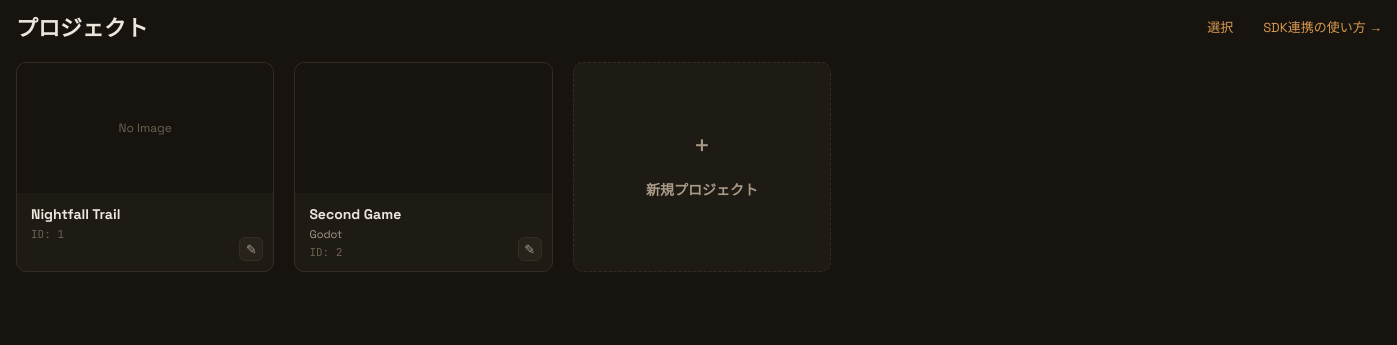
ProjectsPage › project edit › cancel closes the edit form without saving
Click the button named "プロジェクトを編集": (251, 249) [239,237,263,261]
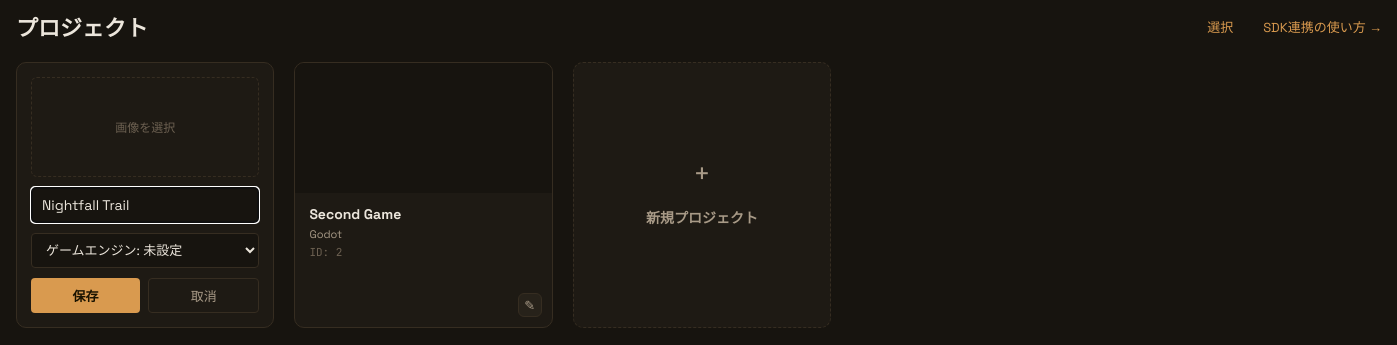
Click the button "取消": (204, 296) [148,278,259,313]
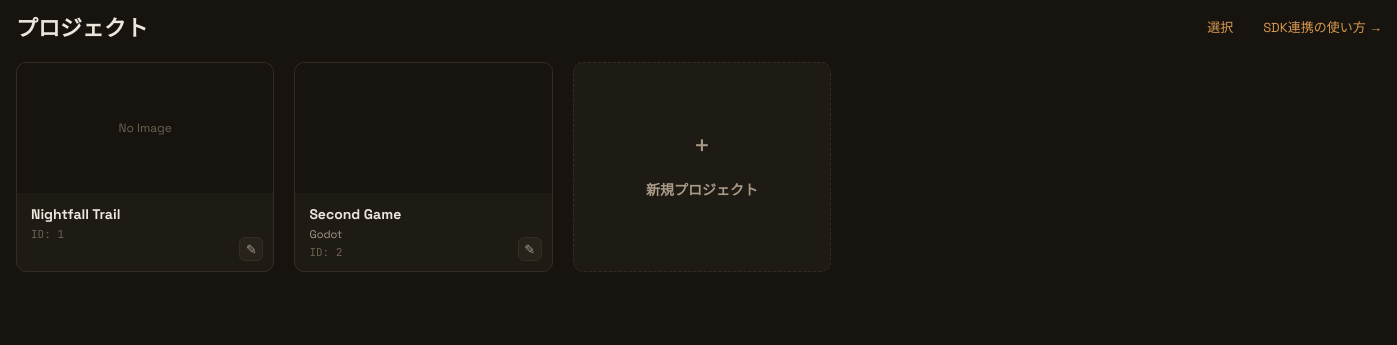
Expected: the field with placeholder "プロジェクト名" is gone
